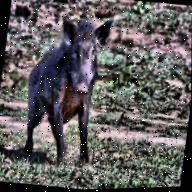boar: (0, 1, 171, 192)
